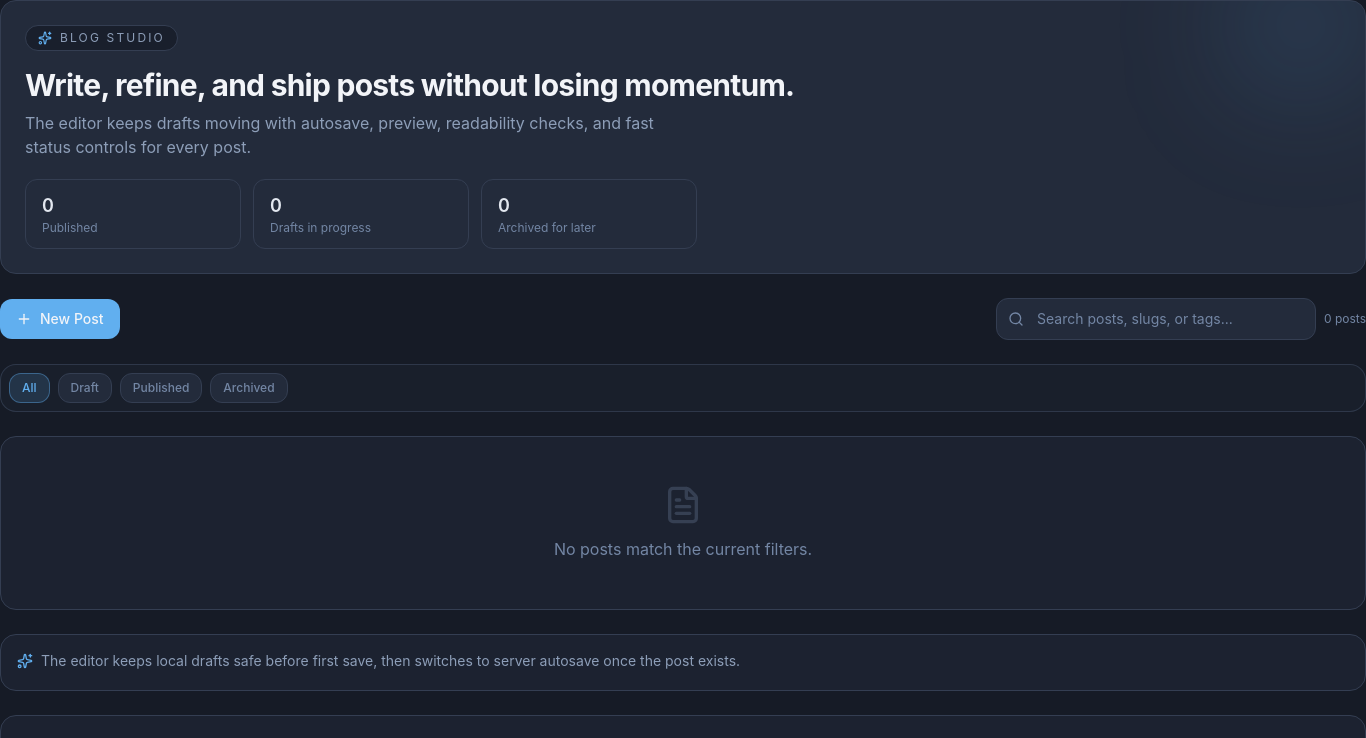
Scenario: BlogAdminView › opens the editor when 'New Post' button is clicked
Note: Wait, BlogAdminToolbar has "New Post" button. We need to find the button.
Click the button "New Post". click: (60, 319)
box: x1=0 y1=299 x2=120 y2=339
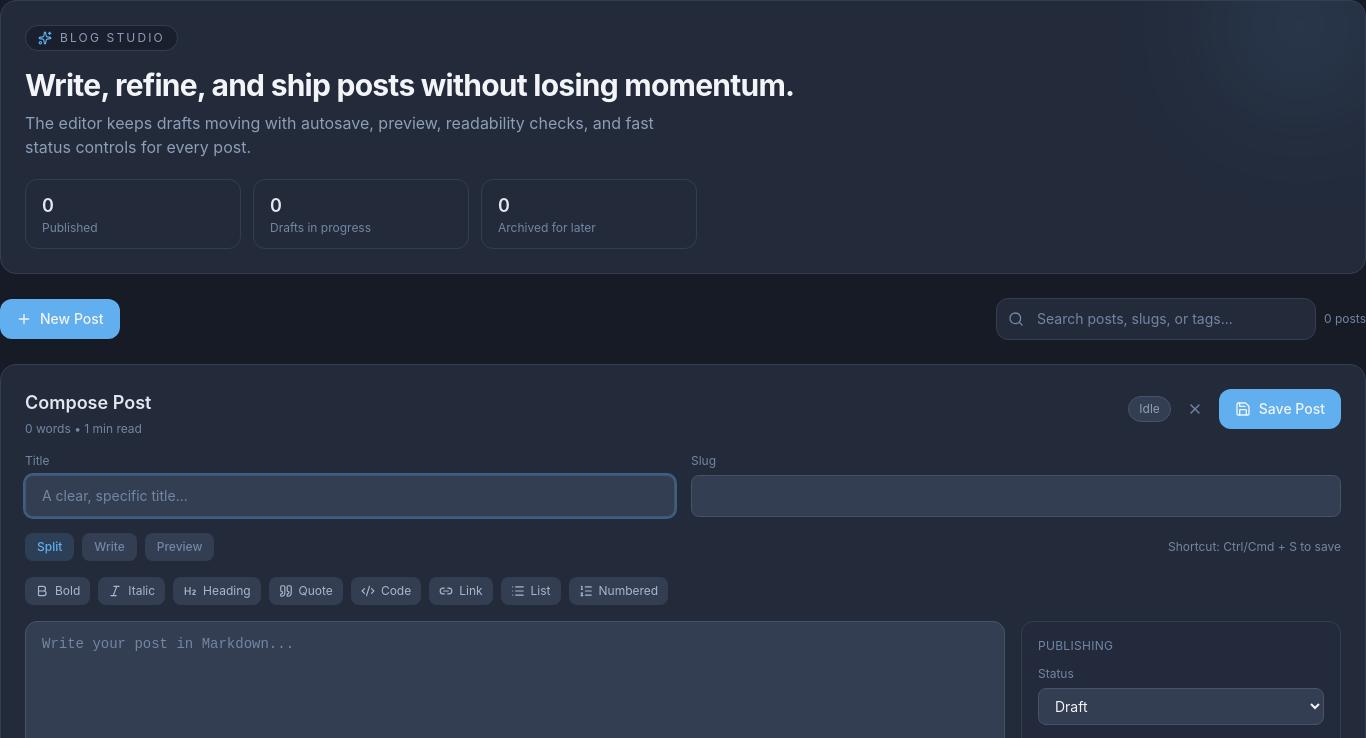
Now the field with placeholder "A clear, specific title..." is shown, box x1=25 y1=475 x2=675 y2=517
